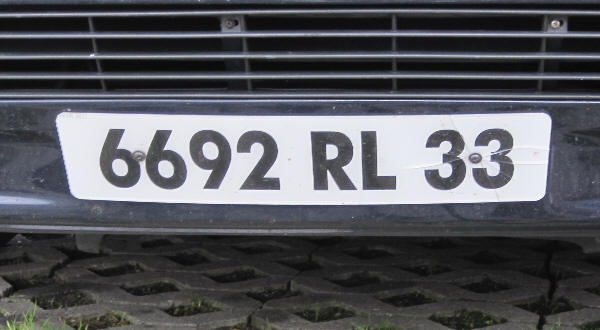license_plate: (55, 112, 552, 206)
